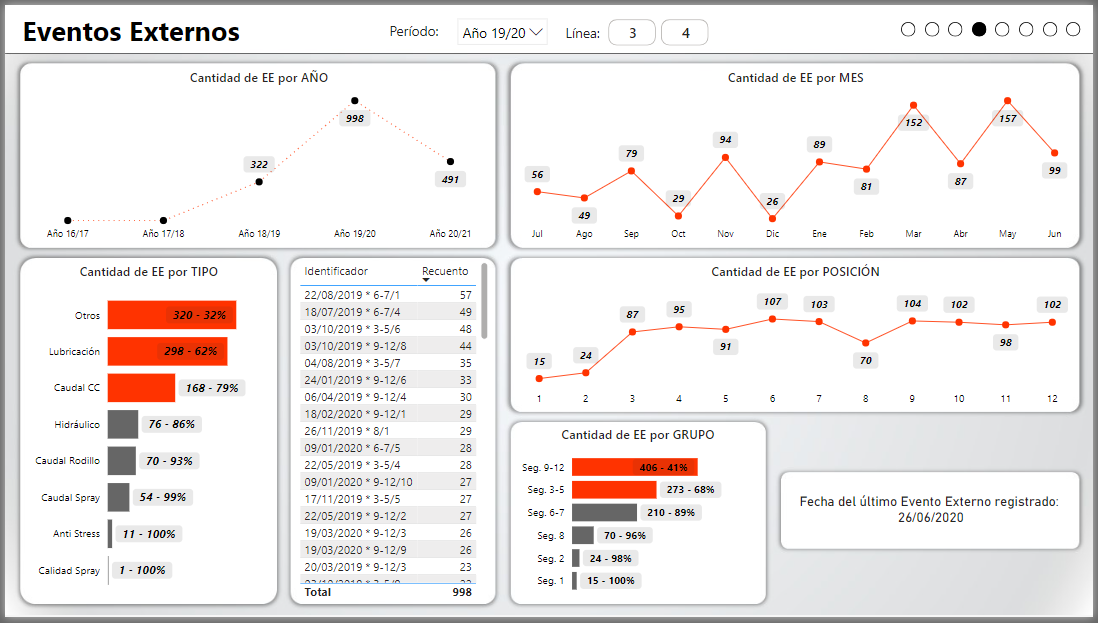

The page's visual inventory and layout, read from the dashboard file:
{"tool":"powerbi","page":{"name":"📥Eventos Externos","canvas":[1280,720],"ordinal":3},"visuals":[{"type":"textbox","box":[15,7,281.5,47.1],"z":0},{"type":"barChart","title":"Cantidad de EE por TIPO","fields":{"Category":["vEventosExternos.Descripcion","vEventosExternos.IdCampania"],"Y":["Medidas.EE Etiquetas TOTAL según Fecha del EE"]},"box":[18.3,297.2,301.1,407.1],"z":1000},{"type":"slicer","fields":{"Values":["vCalendario.AnioFiscal"]},"box":[522.3,5.5,126.1,49.5],"z":2000,"group":"g1"},{"type":"barChart","title":"Cantidad de EE por GRUPO","fields":{"Category":["vSegmento.Grupo"],"Y":["Medidas.EE Recuento TOTAL según Fecha del EE"]},"box":[594.6,490,301.4,214.7],"z":2000},{"type":"lineChart","title":"Cantidad de EE por POSICIÓN","fields":{"Y":["Medidas._EE Recuento usando relación de fecha distinta"],"Category":["vCampania.PosicionEnLinea","vCampania.Identificador"]},"box":[596.9,297.2,667.6,183.3],"z":3000},{"type":"lineChart","title":"Cantidad de EE por MES","fields":{"Category":["vCalendario.AnioFiscal Jerarquía.NombreTrimestreFiscal","vCalendario.AnioFiscal Jerarquía.NombreMesCorto","vCalendario.AnioFiscal Jerarquía.Fecha"],"Y":["Medidas._EE Recuento usando relación de fecha distinta"]},"box":[594.3,69.4,672.9,217.3],"z":4000},{"type":"textbox","box":[447,19.9,77,35.8],"z":5000,"group":"g1"},{"type":"card","fields":{"Values":["Medidas._EE Última Fecha de Actualización"]},"box":[912.4,549.8,352.1,89],"z":5000},{"type":"tableEx","title":"Total de Horas por Grupo de Segmento","fields":{"Values":["vCampania.Identificador","Medidas._EE Recuento con relación de fecha distinta SIN VALORES NULOS ETIQUETAS"]},"box":[336.4,297.2,242.2,407.1],"z":6000},{"type":"lineChart","title":"Cantidad de EE por AÑO","fields":{"Category":["vCalendario.AnioFiscal Jerarquía.AnioFiscal","vCalendario.AnioFiscal Jerarquía.NombreTrimestreFiscal","vCalendario.AnioFiscal Jerarquía.NombreMesCorto","vCalendario.AnioFiscal Jerarquía.Fecha"],"Y":["Medidas._EE Recuento usando relación de fecha distinta"]},"box":[18.3,69.4,560.3,217.3],"z":7000},{"type":"actionButton","box":[1054.5,20,17,17.3],"z":8000},{"type":"actionButton","box":[1248.2,20,16.9,16.9],"z":9000},{"type":"actionButton","box":[1082.2,20,17,17.3],"z":10000},{"type":"actionButton","box":[1109.9,20,17,17.3],"z":11000},{"type":"actionButton","box":[1137.6,20,17,17.3],"z":12000},{"type":"actionButton","box":[1165.3,20,17,17.3],"z":13000},{"type":"actionButton","box":[1193,20,17,17.3],"z":14000},{"type":"actionButton","box":[1220.7,20,16.9,17.3],"z":15000},{"type":"advancedSlicerVisual","fields":{"Values":["vCampania.Linea"]},"box":[705,11,129.1,41.3],"z":17000,"group":"g1"},{"type":"textbox","box":[653.6,21.9,60.5,32.7],"z":21000,"group":"g1"},{"type":"group","id":"g1","title":"Grupo 1","box":[447,5.5,387.1,50.2],"z":21001}]}

Visuals, with their boxes in screenshot pixels (x1, y1, x2, y2), scaled from the page's 1280x720 canvas onto the 1098x623 screenshot:
textbox: [13,6,254,47]
"Cantidad de EE por TIPO" barChart: [16,257,274,609]
slicer - vCalendario.AnioFiscal: [448,5,556,48]
"Cantidad de EE por GRUPO" barChart: [510,424,769,610]
"Cantidad de EE por POSICIÓN" lineChart: [512,257,1085,416]
"Cantidad de EE por MES" lineChart: [510,60,1087,248]
textbox: [383,17,449,48]
card - Medidas._EE Última Fecha de Actualización: [783,476,1085,553]
"Total de Horas por Grupo de Segmento" tableEx: [289,257,496,609]
"Cantidad de EE por AÑO" lineChart: [16,60,496,248]
actionButton: [905,17,919,32]
actionButton: [1071,17,1085,32]
actionButton: [928,17,943,32]
actionButton: [952,17,967,32]
actionButton: [976,17,990,32]
actionButton: [1000,17,1014,32]
actionButton: [1023,17,1038,32]
actionButton: [1047,17,1062,32]
advancedSlicerVisual - vCampania.Linea: [605,10,716,45]
textbox: [561,19,613,47]
"Grupo 1" group: [383,5,716,48]
